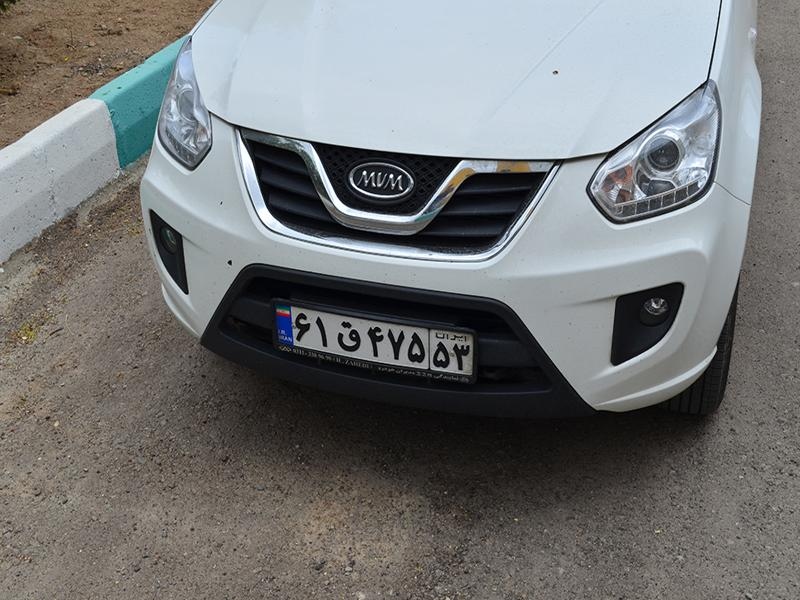Plate: (274, 299, 476, 382)
